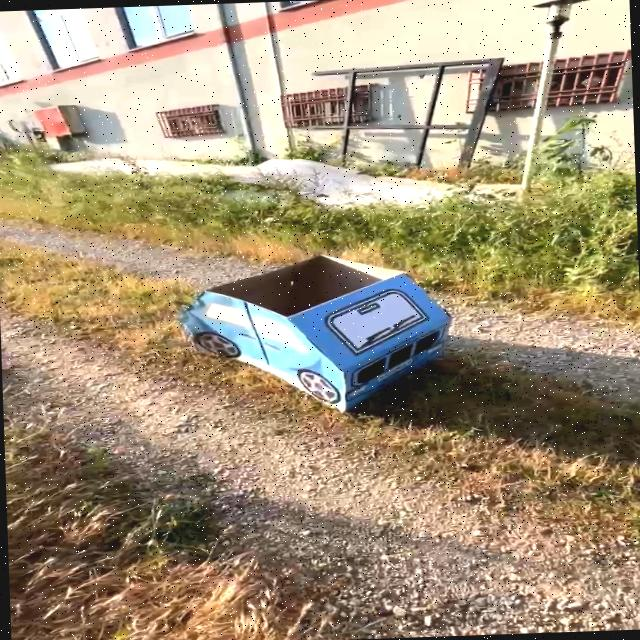blue_car: (130, 219, 479, 460)
